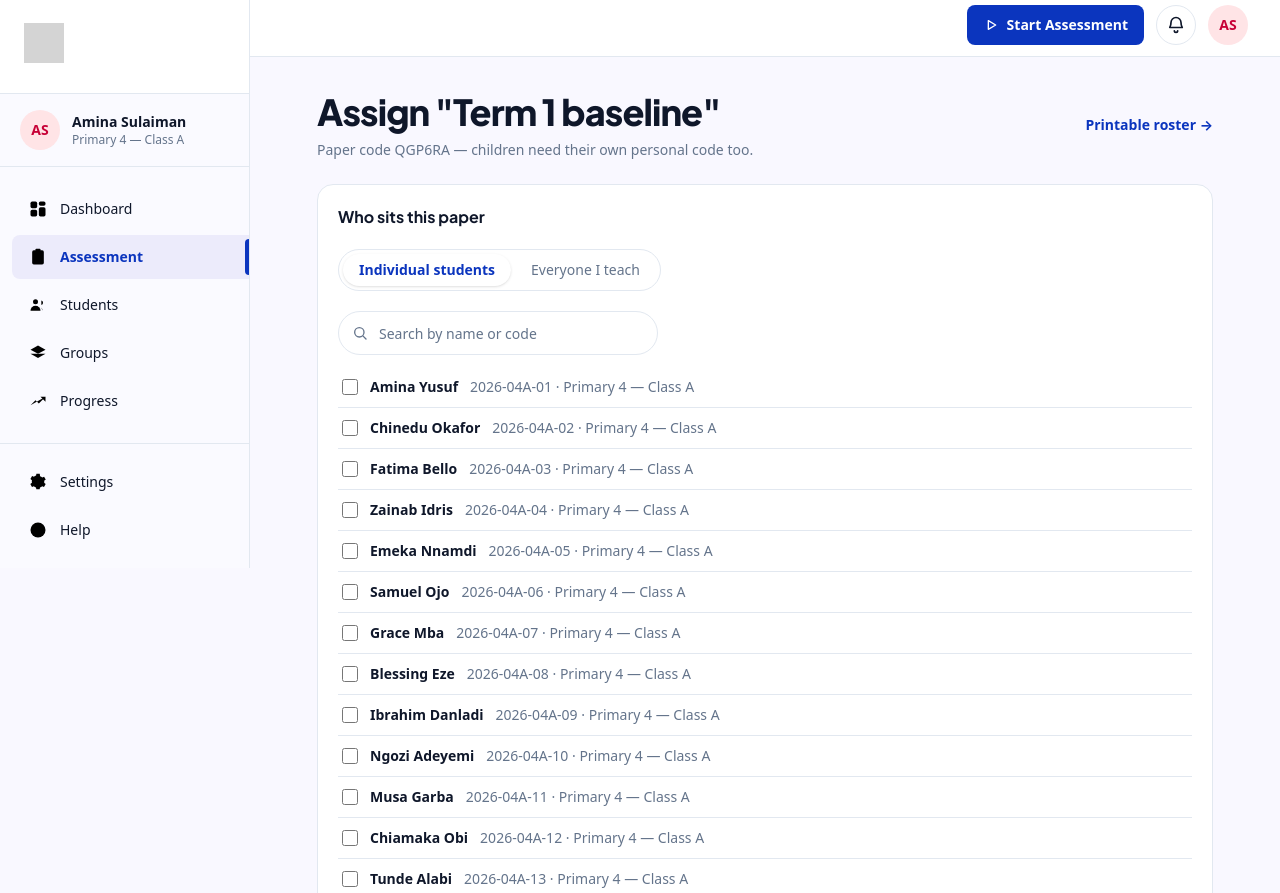
AssignAssessmentPage › sends a guardian link and names a child who could not be reached
Click the radio button labelled "Individual students" at (427, 270), box x1=343 y1=254 x2=511 y2=286
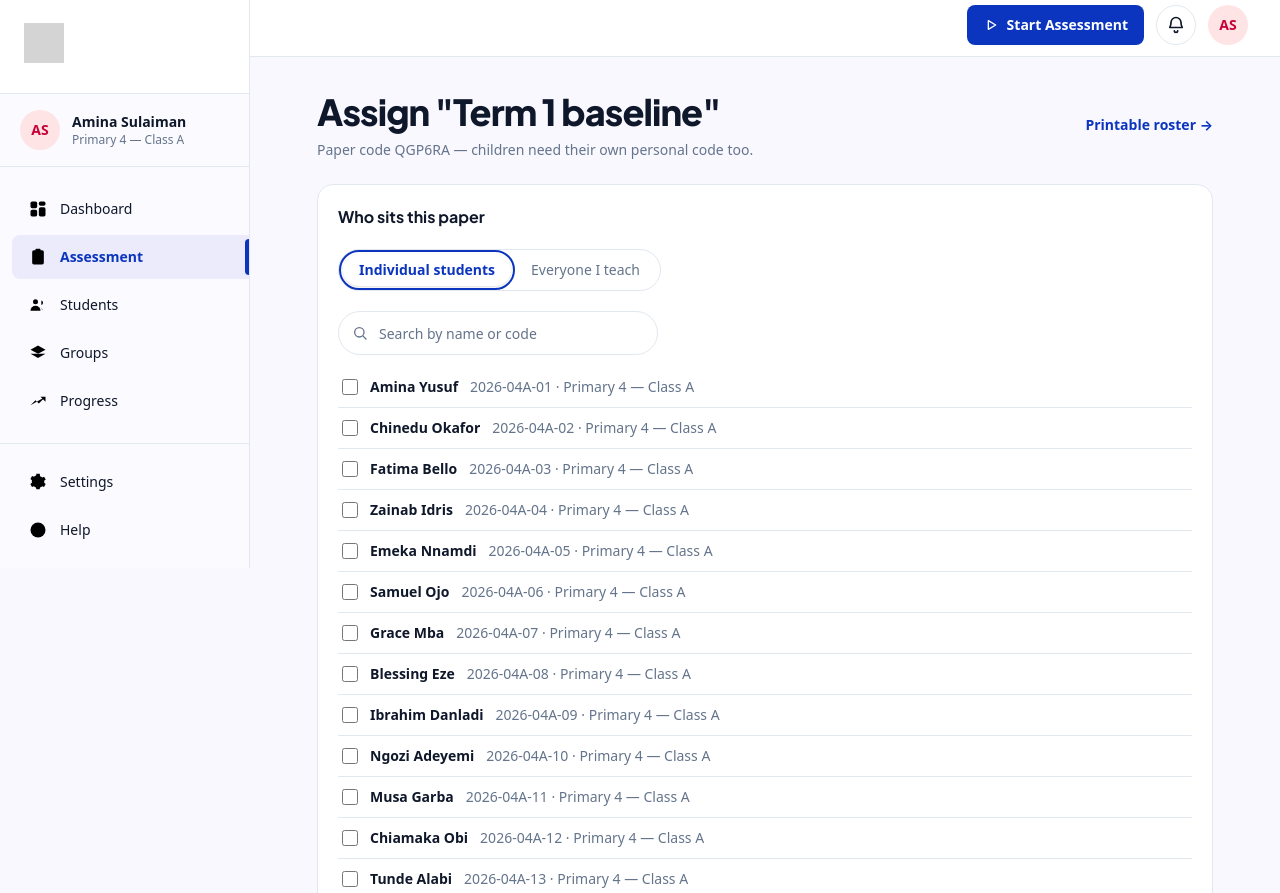
Click the checkbox labelled "Amina Yusuf 2026-04A-01 · Primary 4 — Class A" at (350, 387), box x1=342 y1=379 x2=358 y2=395
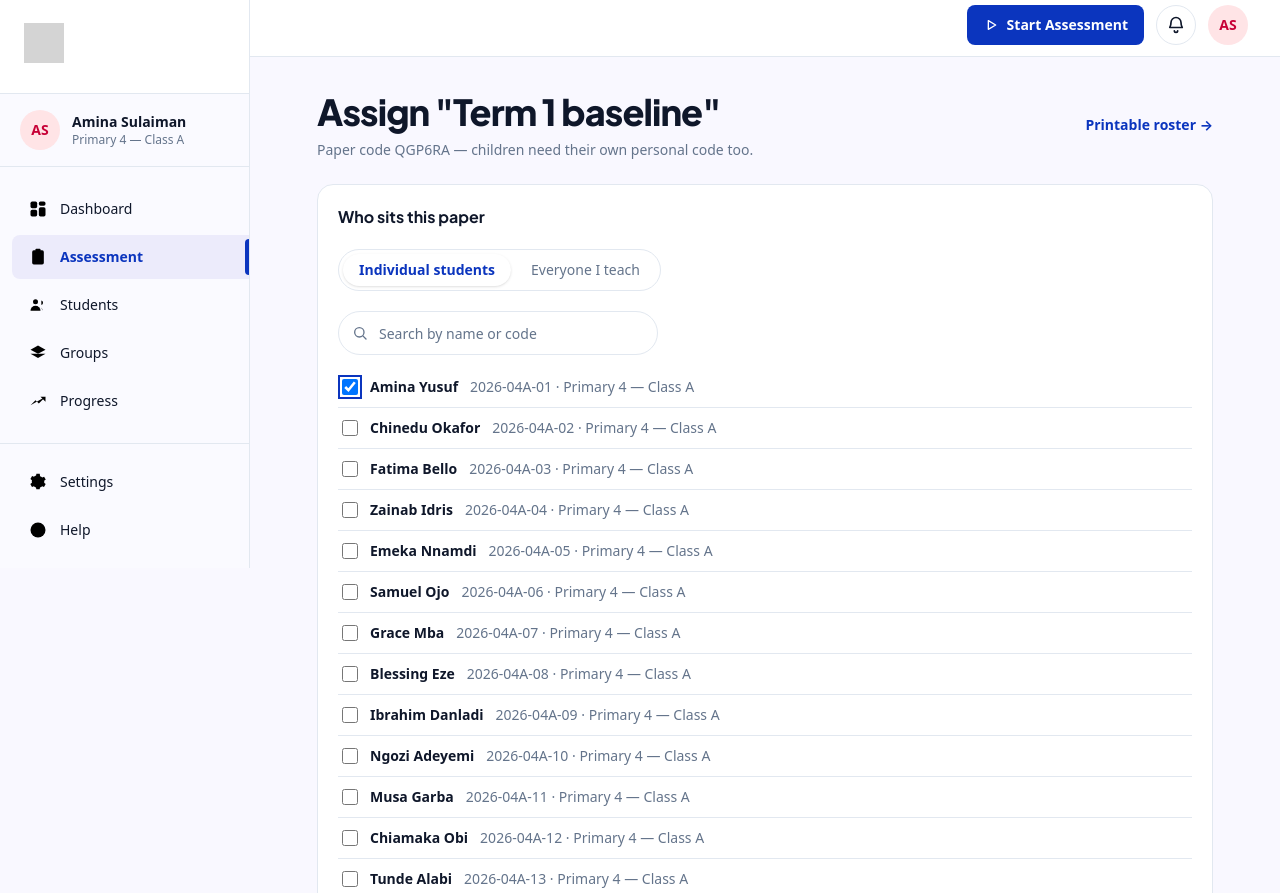
Click the checkbox labelled "Chinedu Okafor 2026-04A-02 · Primary 4 — Class A" at (350, 428), box x1=342 y1=420 x2=358 y2=436
(page scrolled)
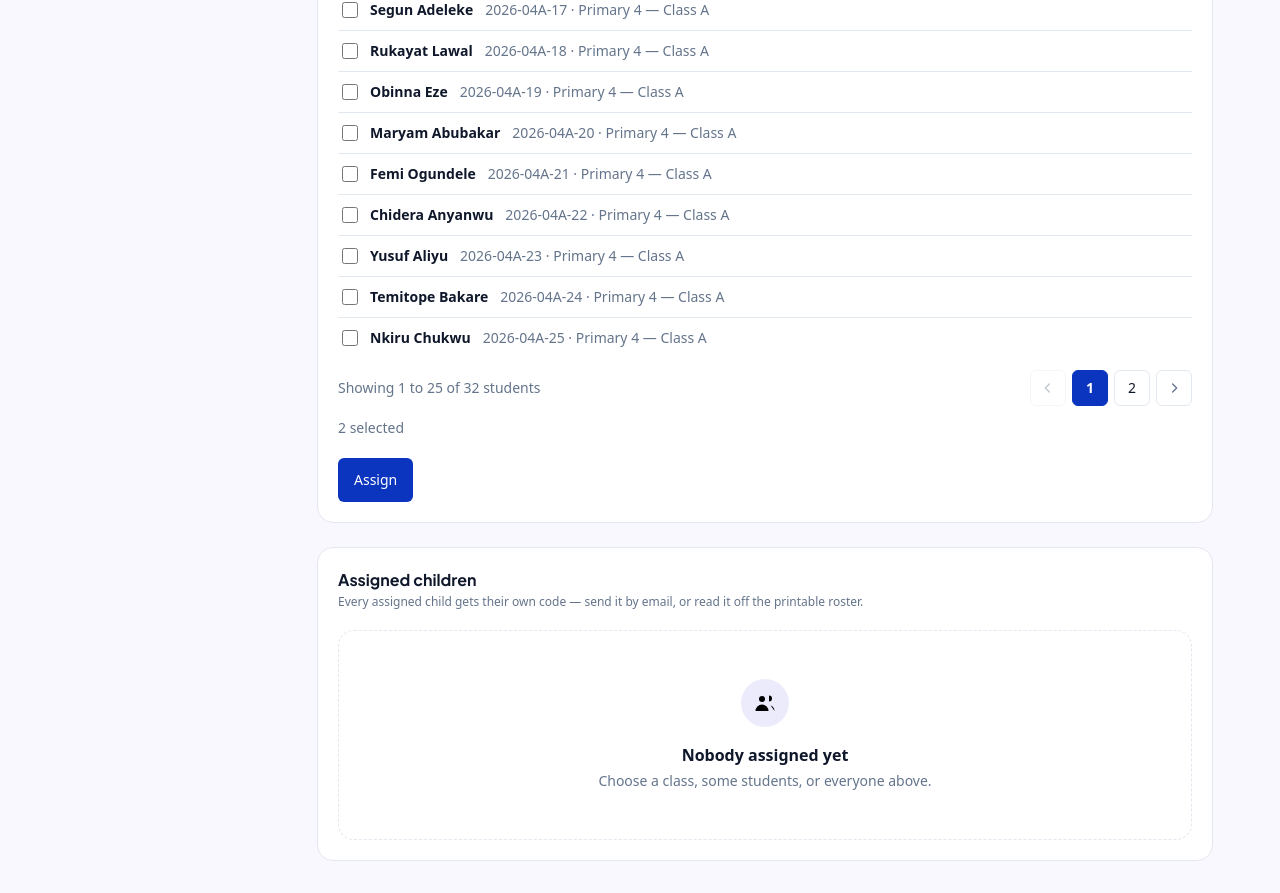
Click the button "Assign" at (376, 480), box x1=338 y1=458 x2=413 y2=502
(page scrolled)
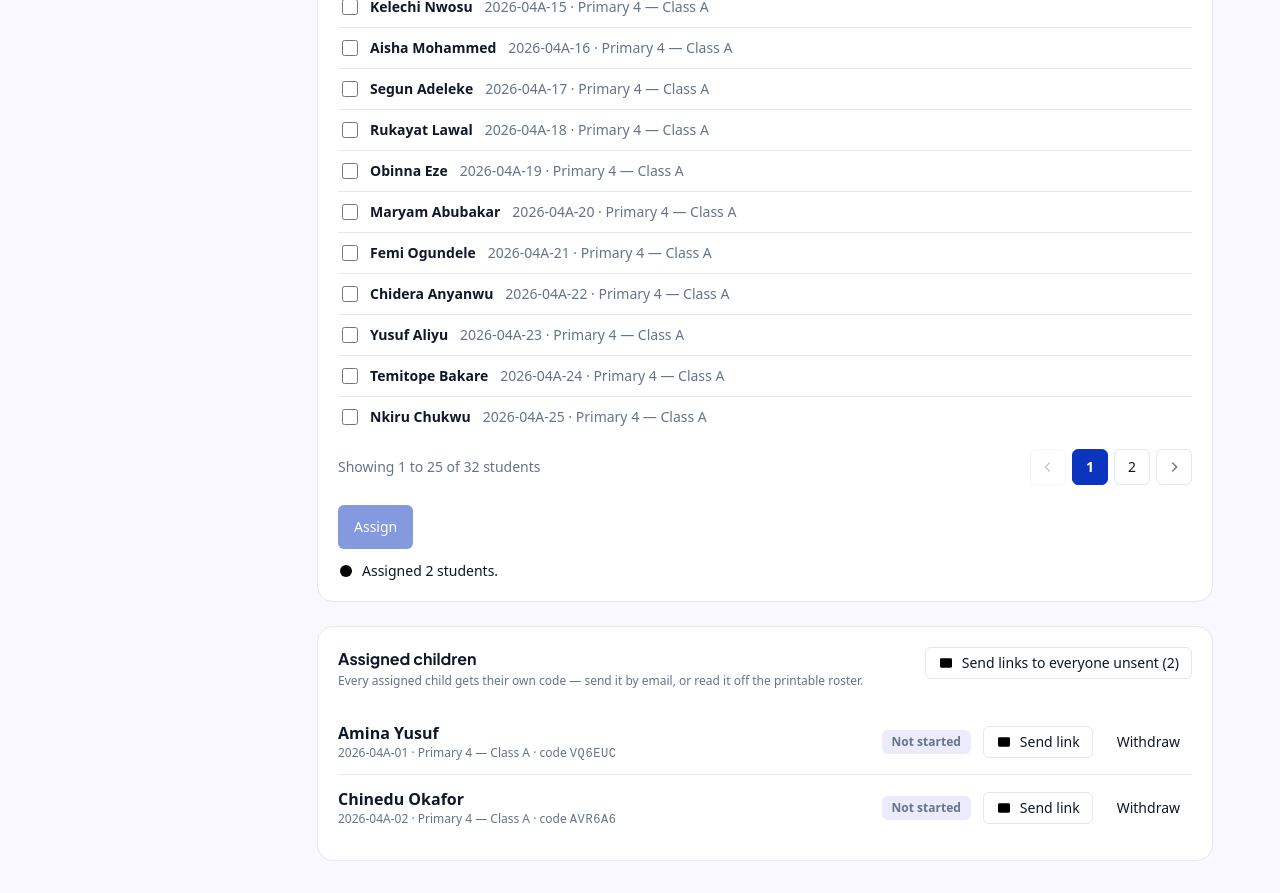
Check: the text "Assigned 2 students." is shown, box x1=338 y1=561 x2=498 y2=580
Click the 1st button "Send link" at (1038, 742), box x1=983 y1=726 x2=1093 y2=758
(page scrolled)
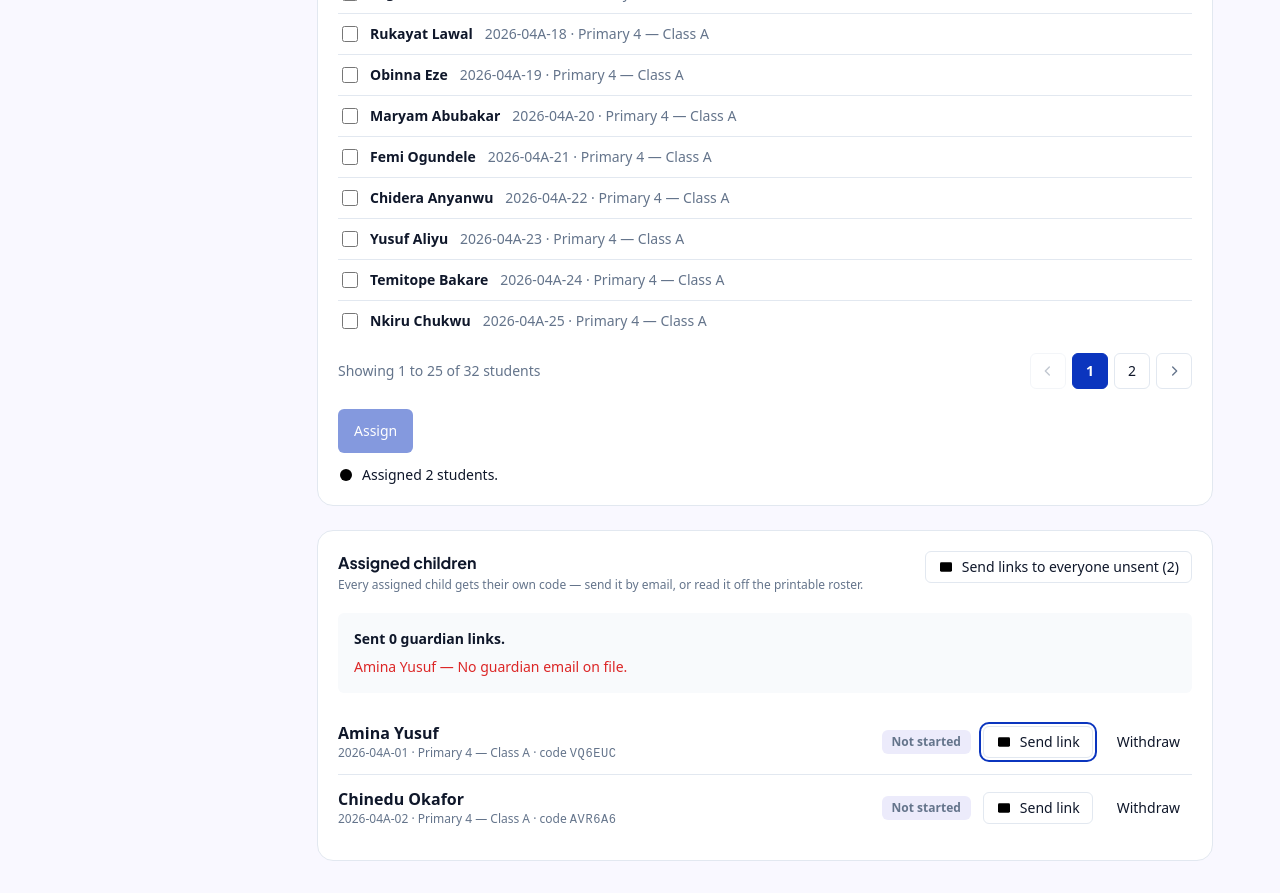
Check: the list item "Amina Yusuf — No guardian email on file." is shown, box x1=354 y1=657 x2=627 y2=676
Click the button "Send link" in the row of "AVR6A6" at (1038, 808), box x1=983 y1=792 x2=1093 y2=824
(page scrolled)
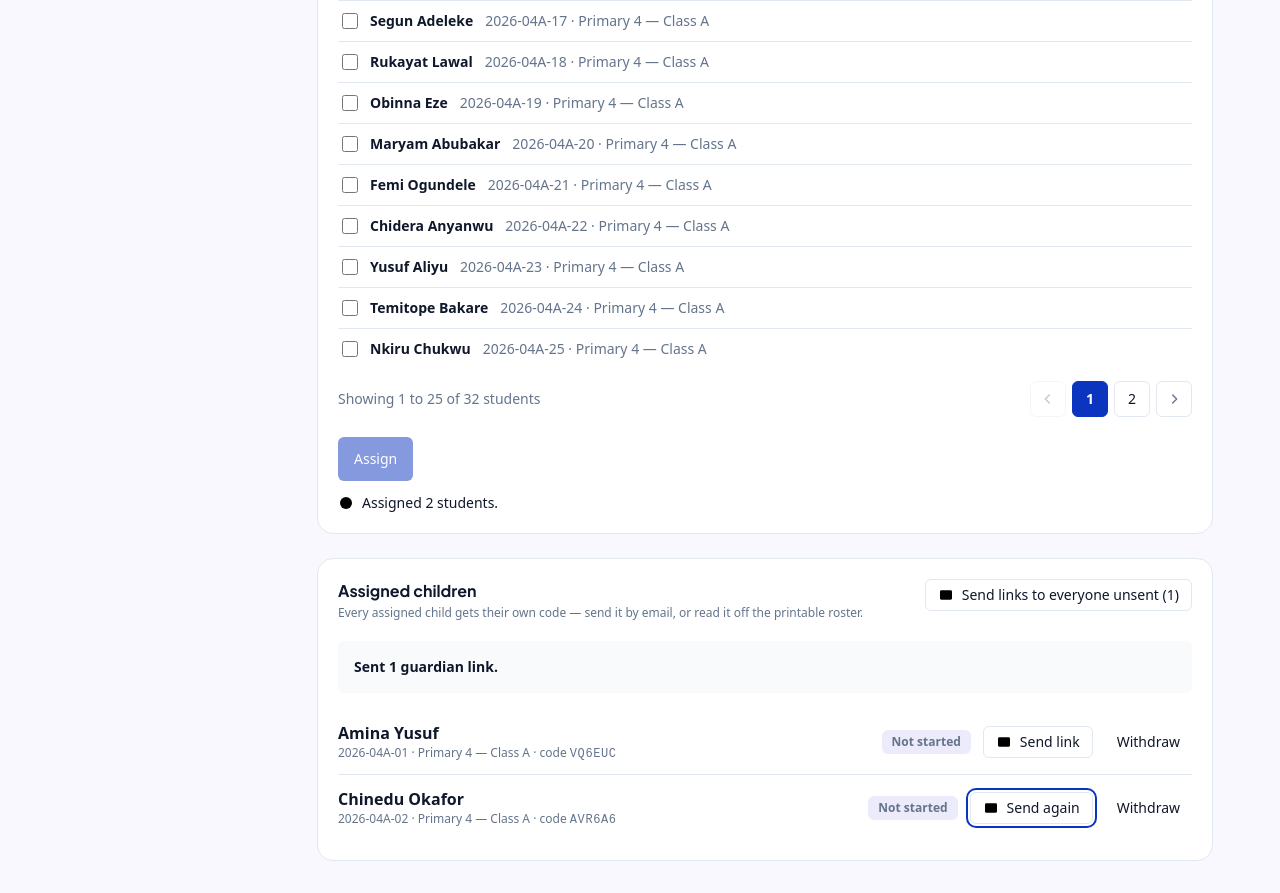
Check: the text "Sent 1 guardian link." is shown, box x1=354 y1=657 x2=498 y2=676
